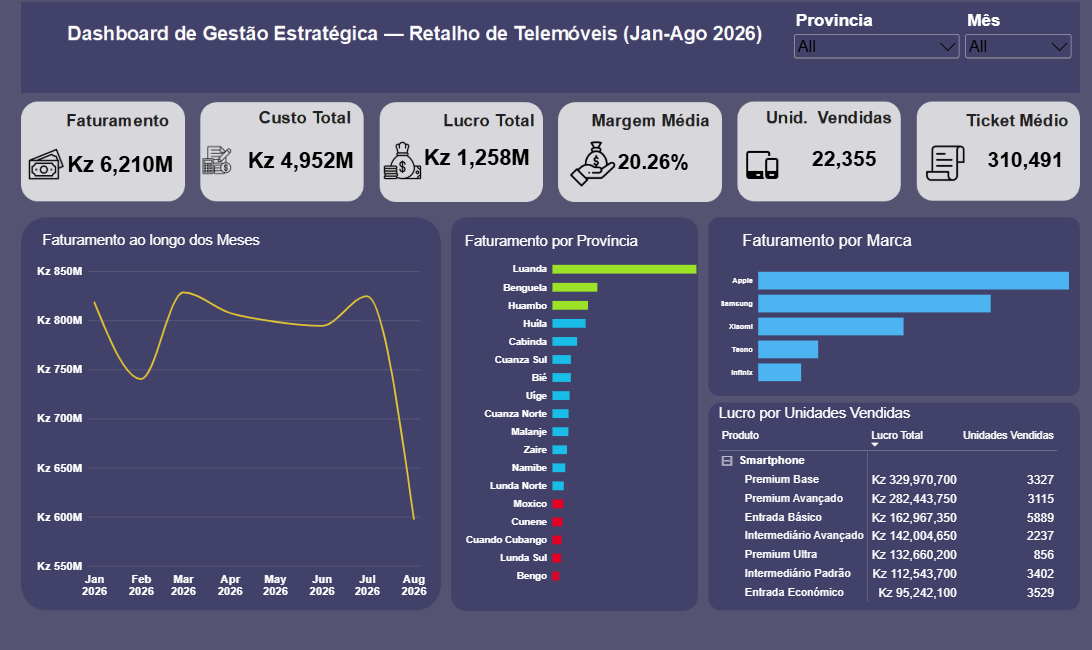

This screenshot's page, from the dashboard's own definition file:
{"tool":"powerbi","page":{"name":"Page 1","canvas":[1920,1080],"ordinal":0},"visuals":[{"type":"cardVisual","fields":{"Data":["Metricas.Faturamento Total"]},"box":[208.5,220.8,208.5,105.1],"z":0},{"type":"cardVisual","fields":{"Data":["Metricas.Margem  de LucroMedia %"]},"box":[1132,228.5,167.4,92.4],"z":1000},{"type":"cardVisual","fields":{"Data":["Metricas.Ticket Médio por Transação"]},"box":[1677.9,212.8,205.8,106.4],"z":2000},{"type":"cardVisual","fields":{"Data":["Metricas.Custo Total"]},"box":[783.2,212,219,99.9],"z":3000},{"type":"cardVisual","fields":{"Data":["Metricas.Unidades Vendidas"]},"box":[1357.9,206.8,216.3,116.9],"z":4000},{"type":"lineChart","fields":{"Y":["Metricas.Faturamento Total"],"Category":["Calendario.Date.Variation.Date Hierarchy.Year","Calendario.Date.Variation.Date Hierarchy.Month"]},"box":[164,436,668,552.9],"z":5000},{"type":"barChart","fields":{"Category":["Vendas.Marca"],"Y":["Metricas.Lucro Total"]},"box":[1299.8,426.3,583,219.4],"z":6000},{"type":"pivotTable","fields":{"Rows":["Vendas.Categoria_Produto","Vendas.Subcategoria_Comercial"],"Values":["Metricas.Lucro Total","Metricas.Unidades Vendidas"]},"box":[1299.4,704.7,584.3,287.8],"z":7000},{"type":"image","box":[746.4,222.5,61.3,87.6],"z":8000},{"type":"image","box":[1055.3,221.5,66.6,78.8],"z":9000},{"type":"image","box":[14,0,127.9,152.4],"z":10000},{"type":"image","box":[162.9,220.8,57.8,103.4],"z":11000},{"type":"image","box":[1343.9,238.3,52.6,68.3],"z":12000},{"type":"image","box":[448.6,227.8,47.3,73.6],"z":13000},{"type":"image","box":[1633,238.3,78.8,63.1],"z":14000},{"type":"textbox","box":[184.9,382,622.7,57.6],"z":15000},{"type":"textbox","box":[1337.8,382,545.9,75],"z":16000},{"type":"textbox","box":[1299.4,668,528.5,64.5],"z":17000},{"type":"clusteredBarChart","fields":{"Category":["Vendas.Provincia"],"Y":["Metricas.Faturamento Total"]},"box":[881.3,418.8,383.7,551.9],"z":18000},{"type":"cardVisual","fields":{"Data":["Metricas.Custo Total"]},"box":[473.1,213.8,240,105.1],"z":19000},{"type":"textbox","box":[881.3,385.5,346.9,54.3],"z":20000},{"type":"slicer","fields":{"Values":["Vendas.Provincia"]},"box":[1418.9,18.8,282.1,79.4],"z":20001},{"type":"slicer","fields":{"Values":["Calendario.Mes_Nome"]},"box":[1701,18.8,183.9,79.4],"z":20002}]}

Visuals, with their boxes on the page's 1920x1080 design canvas (x1, y1, x2, y2). These are canvas units, not pixel positions in the 1092x650 screenshot, which may show the page scaled, cropped or inside an application window:
cardVisual - Metricas.Faturamento Total: BBox(208, 221, 417, 326)
cardVisual - Metricas.Margem  de LucroMedia %: BBox(1132, 228, 1299, 321)
cardVisual - Metricas.Ticket Médio por Transação: BBox(1678, 213, 1884, 319)
cardVisual - Metricas.Custo Total: BBox(783, 212, 1002, 312)
cardVisual - Metricas.Unidades Vendidas: BBox(1358, 207, 1574, 324)
lineChart - Metricas.Faturamento Total x Calendario.Date.Variation.Date Hierarchy.Year: BBox(164, 436, 832, 989)
barChart - Vendas.Marca x Metricas.Lucro Total: BBox(1300, 426, 1883, 646)
pivotTable - Vendas.Categoria_Produto x Vendas.Subcategoria_Comercial: BBox(1299, 705, 1884, 992)
image: BBox(746, 222, 808, 310)
image: BBox(1055, 222, 1122, 300)
image: BBox(14, 0, 142, 152)
image: BBox(163, 221, 221, 324)
image: BBox(1344, 238, 1396, 307)
image: BBox(449, 228, 496, 301)
image: BBox(1633, 238, 1712, 301)
textbox: BBox(185, 382, 808, 440)
textbox: BBox(1338, 382, 1884, 457)
textbox: BBox(1299, 668, 1828, 732)
clusteredBarChart - Vendas.Provincia x Metricas.Faturamento Total: BBox(881, 419, 1265, 971)
cardVisual - Metricas.Custo Total: BBox(473, 214, 713, 319)
textbox: BBox(881, 386, 1228, 440)
slicer - Vendas.Provincia: BBox(1419, 19, 1701, 98)
slicer - Calendario.Mes_Nome: BBox(1701, 19, 1885, 98)
